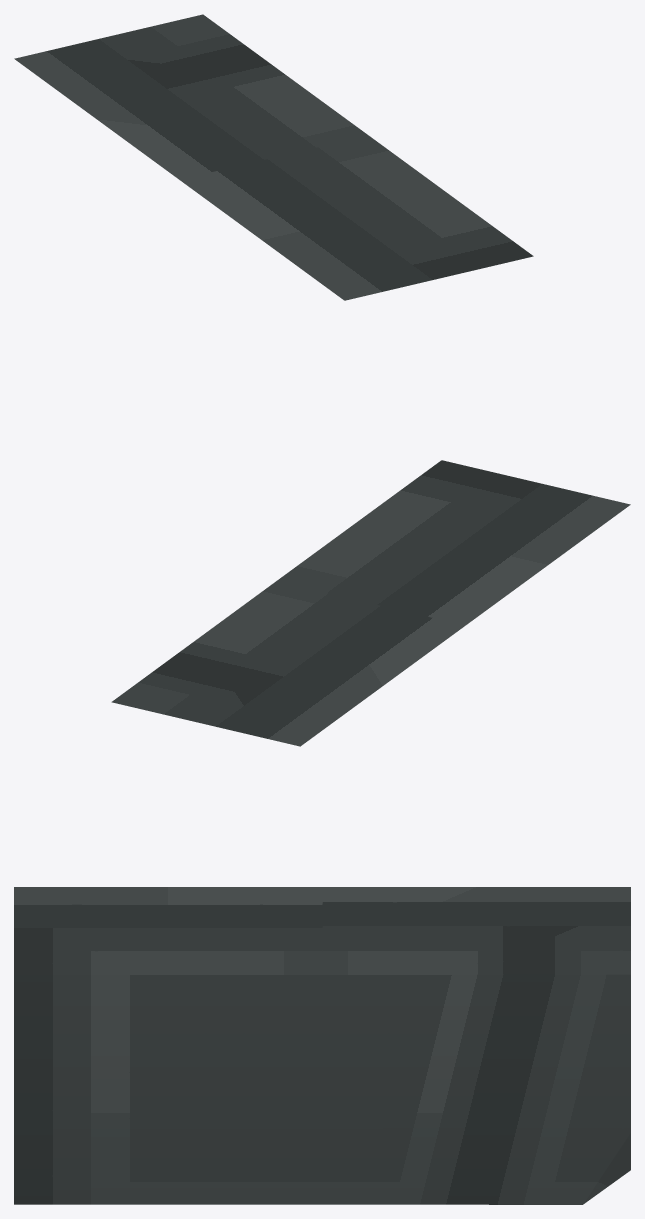
3 views of the same model, one above another, from view 1: azimuth 30°, elevation 25°; view 2: azimuth 150°, elevation 25°; view 3: azimuth 270°, elevation 25° (orthographic). The views are drawn at different scales.
Size of the model in its own units: 0.5 by 0.3354 by 1.
2 materials, 2 textured.
